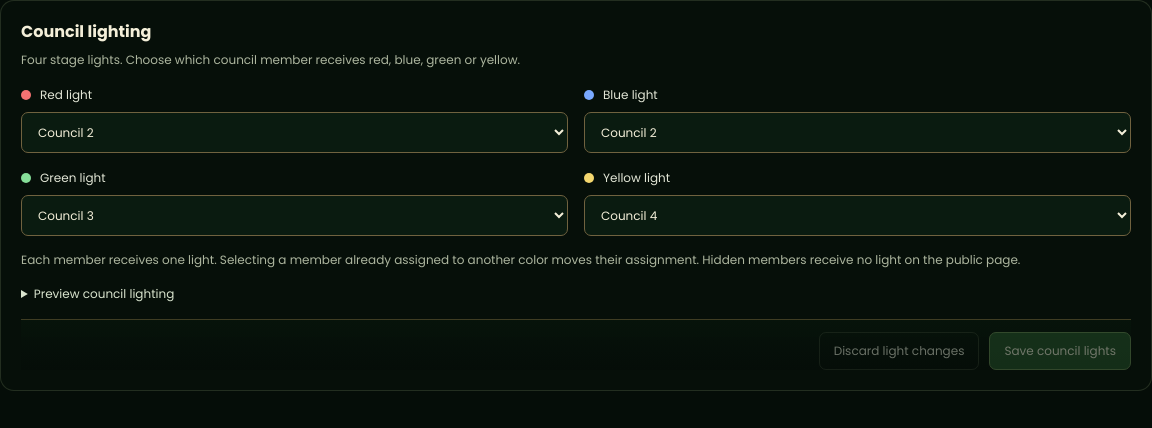
it: moves a color assignment and saves only the changed member colors
Select "Council 2" in the dropdown labelled "Red light": (294, 132) x1=21 y1=112 x2=568 y2=153
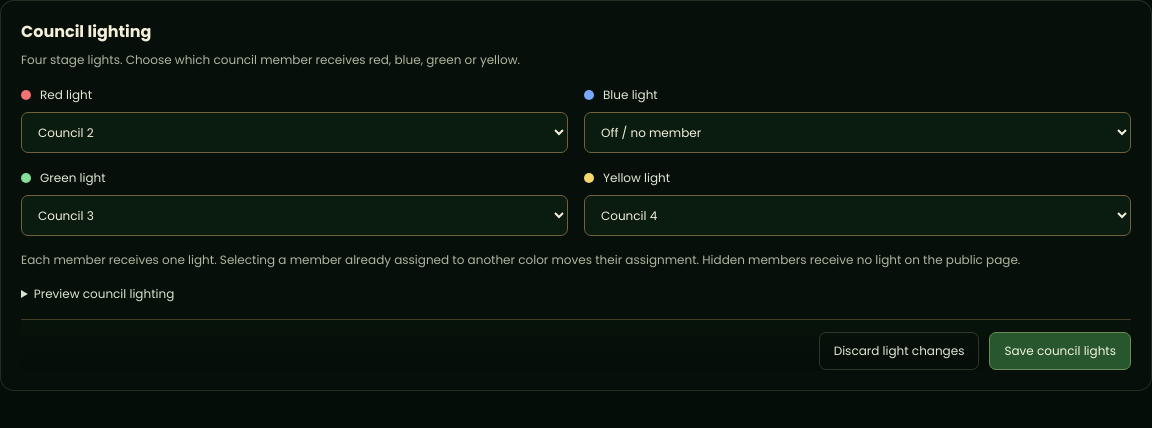
Expected: the dropdown with id "council-light-blue" shows "Off / no member", x1=584 y1=112 x2=1131 y2=153
Click the button "Save council lights": (1060, 351) x1=989 y1=332 x2=1131 y2=370
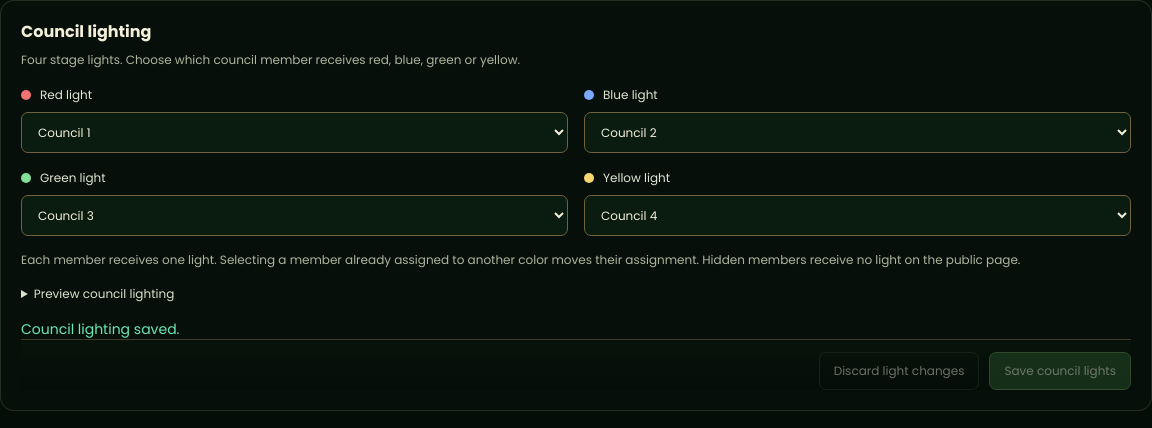
Expected: the message "Council lighting saved." is shown, x1=21 y1=319 x2=180 y2=339
